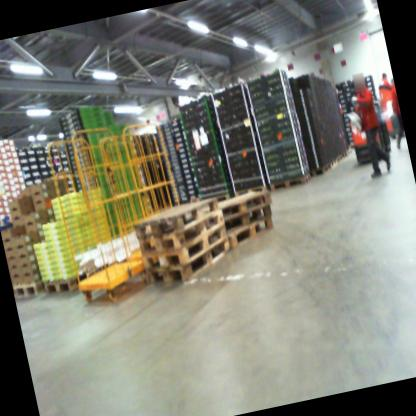pallet: (127, 188, 223, 252), (133, 222, 232, 280), (128, 206, 228, 257), (138, 238, 235, 289), (37, 265, 109, 305), (209, 179, 275, 220), (226, 171, 313, 202), (221, 211, 281, 251), (218, 200, 277, 232), (11, 273, 44, 302), (205, 191, 233, 208), (306, 161, 331, 176), (328, 155, 337, 169), (335, 149, 343, 163), (340, 148, 349, 159), (345, 145, 354, 156)
pallet_truck: (342, 88, 395, 170), (371, 75, 406, 145)
